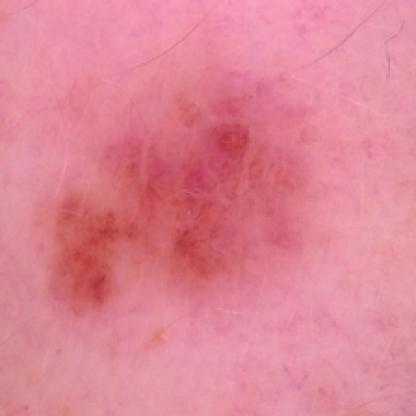benign: (35, 112, 292, 304)
